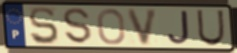J: (166, 9, 191, 46)
O: (96, 8, 128, 46)
S: (28, 5, 61, 46), (62, 7, 94, 46)
U: (195, 9, 226, 47)
V: (126, 8, 161, 47)
